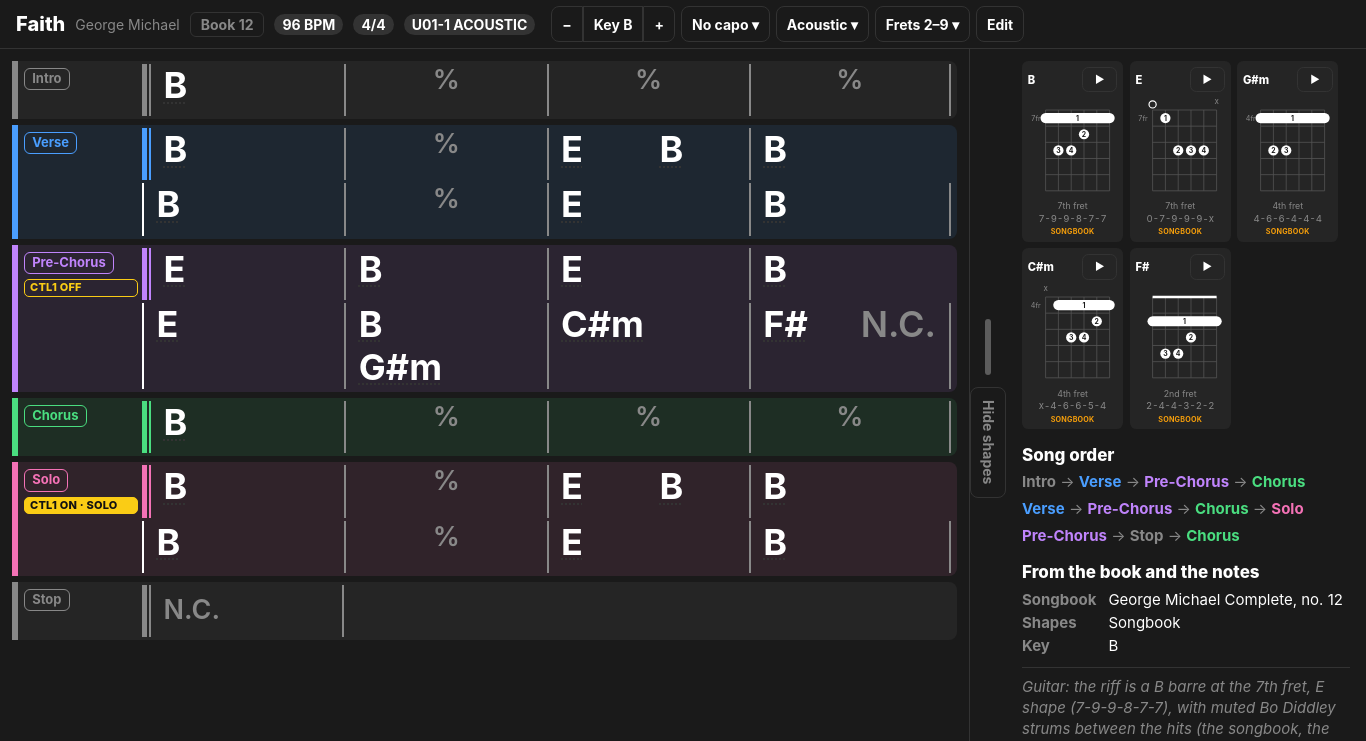
Scenario: picking a chord on Practice › a tap picks it and the panel shows its shapes; a second tap lets go
Click the 1st button "B": x=176, y=86 [164,64,187,107]
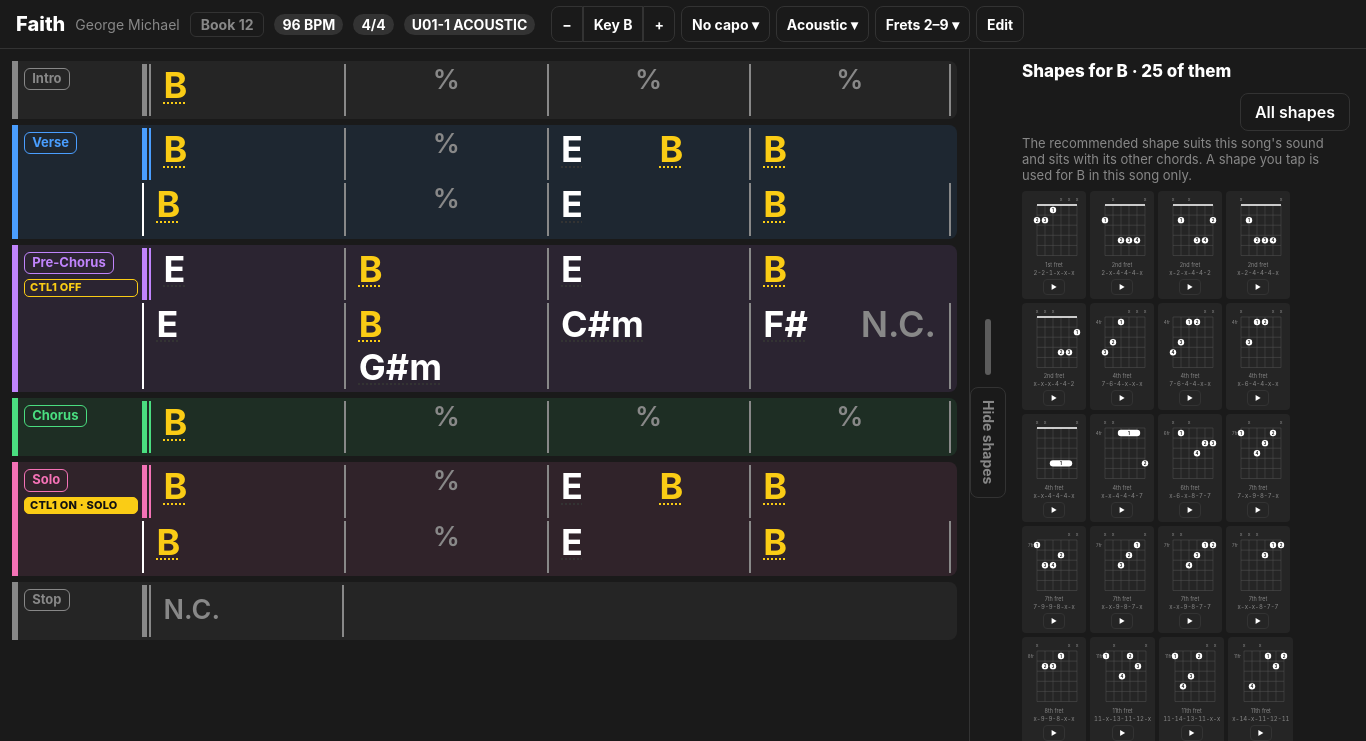
Check: the heading "Shapes for B · 25 of them" is shown, box [1022,61,1231,81]
Click the 1st button "B": x=176, y=86 [164,64,187,107]
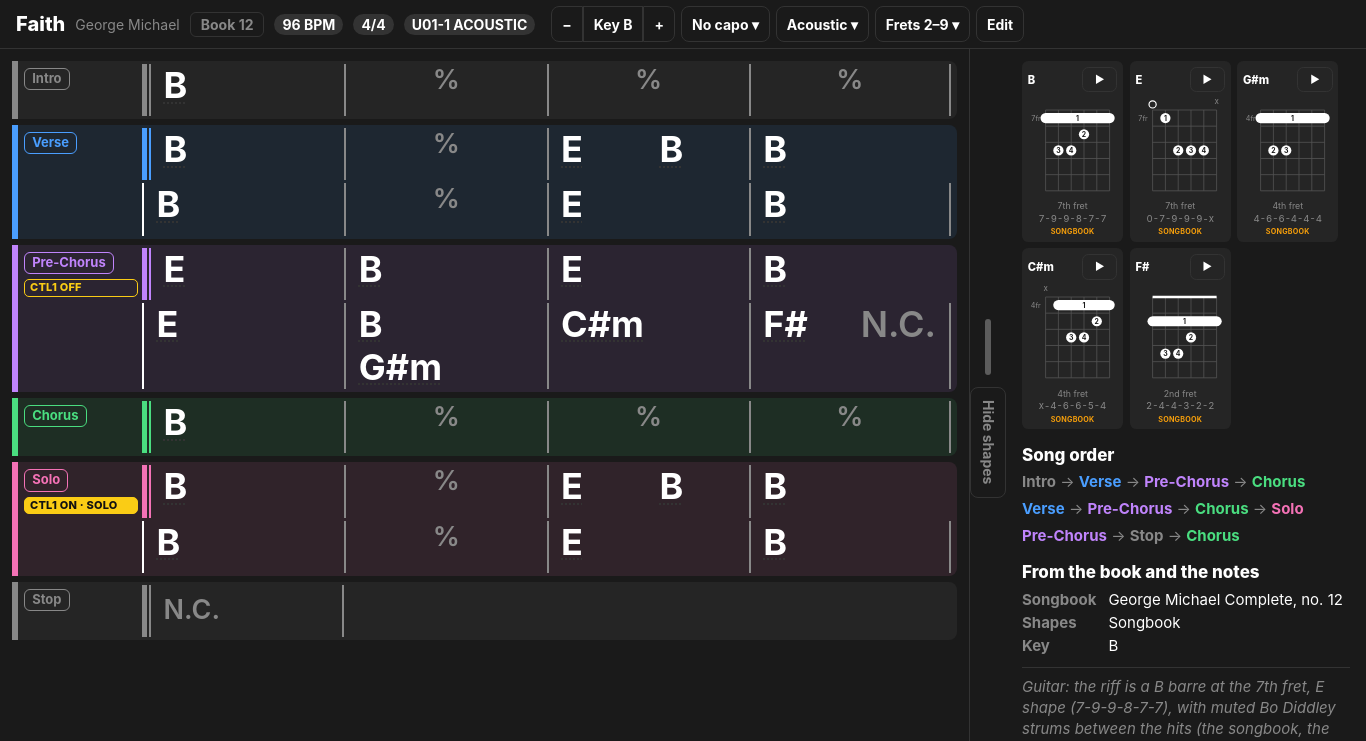
Check: the list named "Chord shapes" is shown, box [1022,61,1350,429]
